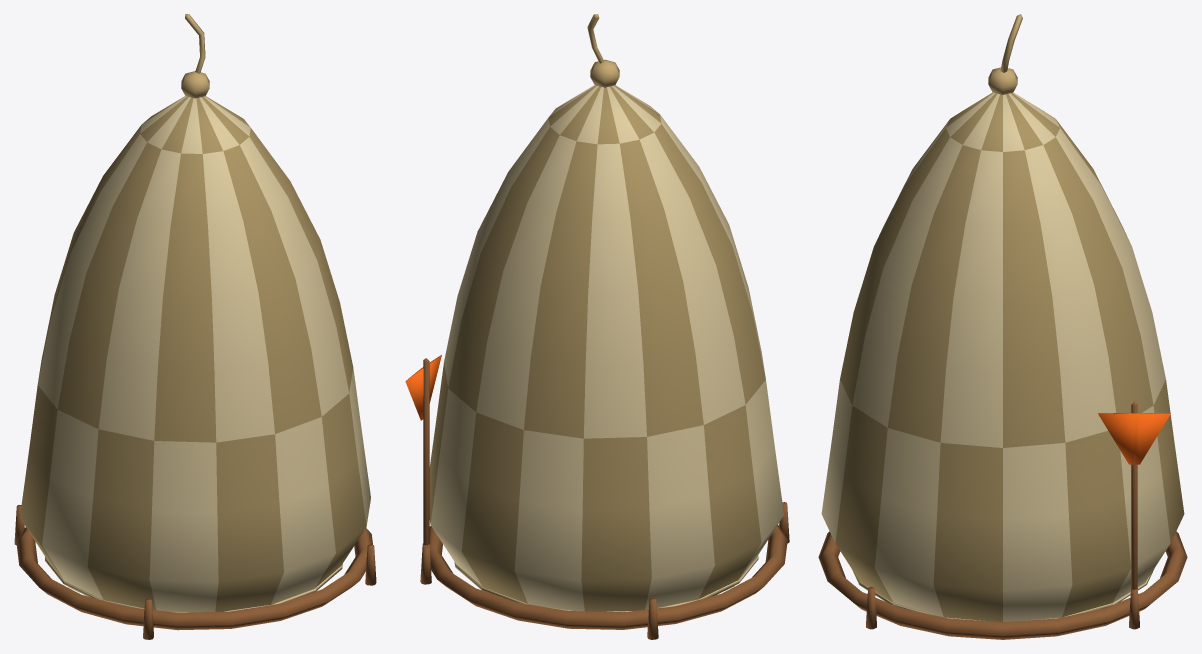
File: trap.glb
3 renders of one model, left to right at view 1: azimuth 30°, elevation 25°; view 2: azimuth 150°, elevation 25°; view 3: azimuth 270°, elevation 25°, orthographic. The views are drawn at different scales.
Parts seen in each view (by area): view 1: Sprung, Open; view 2: Sprung, Open; view 3: Sprung, Open.
Boxes of the visible parts, left/top/right/bottom form: Sprung: left=20, top=14, right=370, bottom=612; Open: left=14, top=505, right=376, bottom=639; Sprung: left=429, top=14, right=783, bottom=611; Open: left=405, top=355, right=789, bottom=639; Sprung: left=821, top=14, right=1184, bottom=621; Open: left=818, top=402, right=1187, bottom=639.
Size of the model in its own units: 1.31 by 2.18 by 1.31.
1 material, 1 textured.
